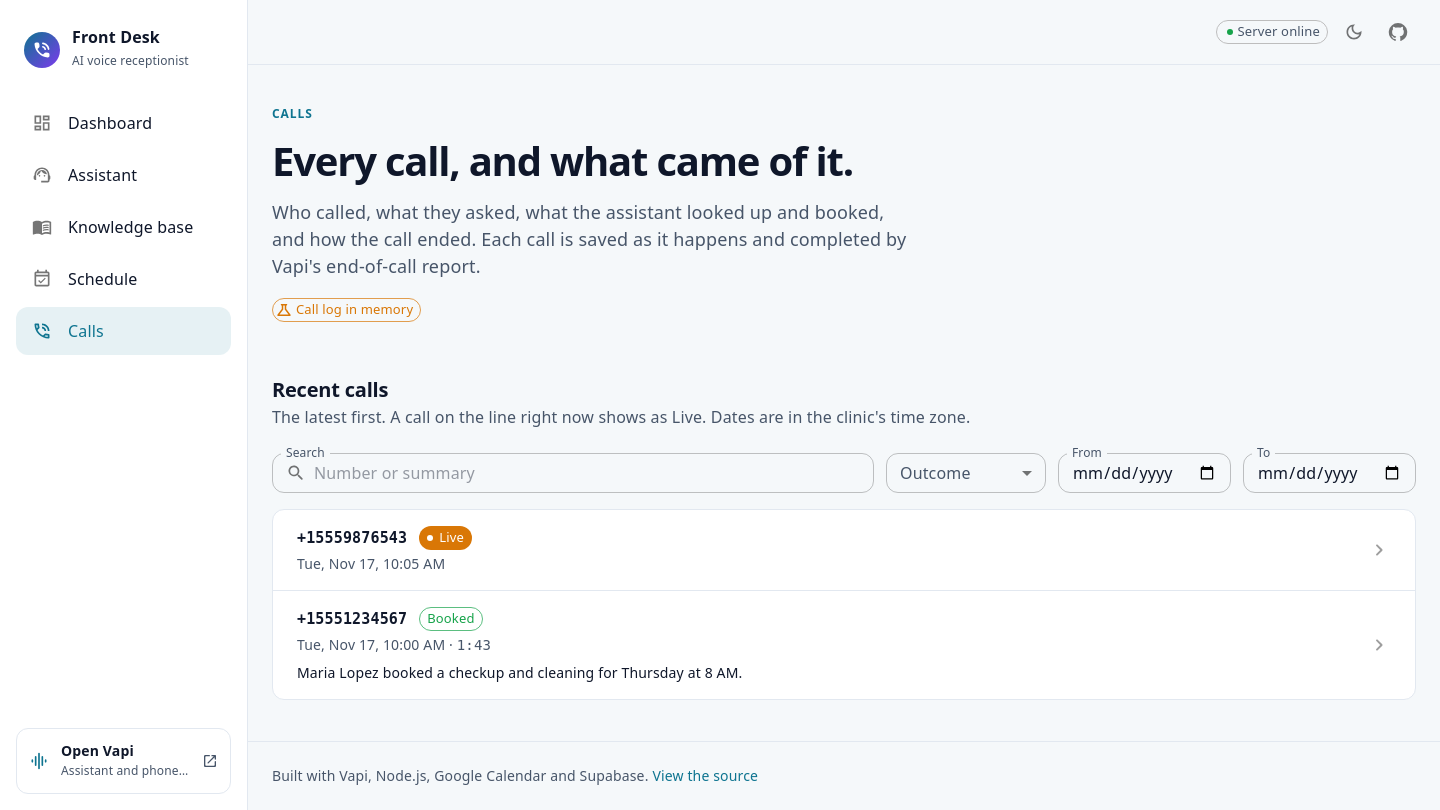
it: Call filters › searches as you type, and clears
Type "maria" into the field labelled "Search" at (594, 473), box [314, 453, 874, 493]
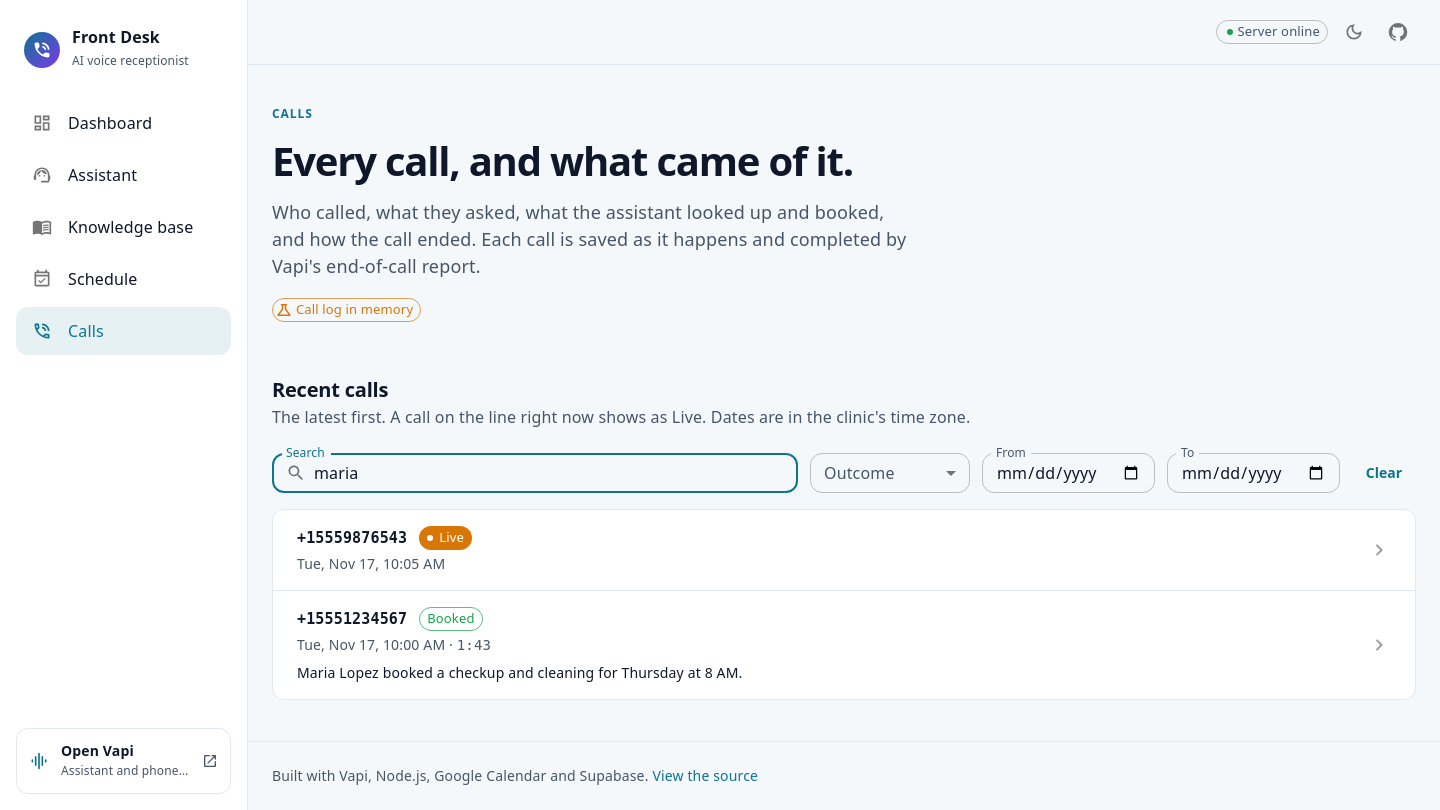
Click the button "Clear" at (1384, 473), box [1352, 455, 1416, 491]
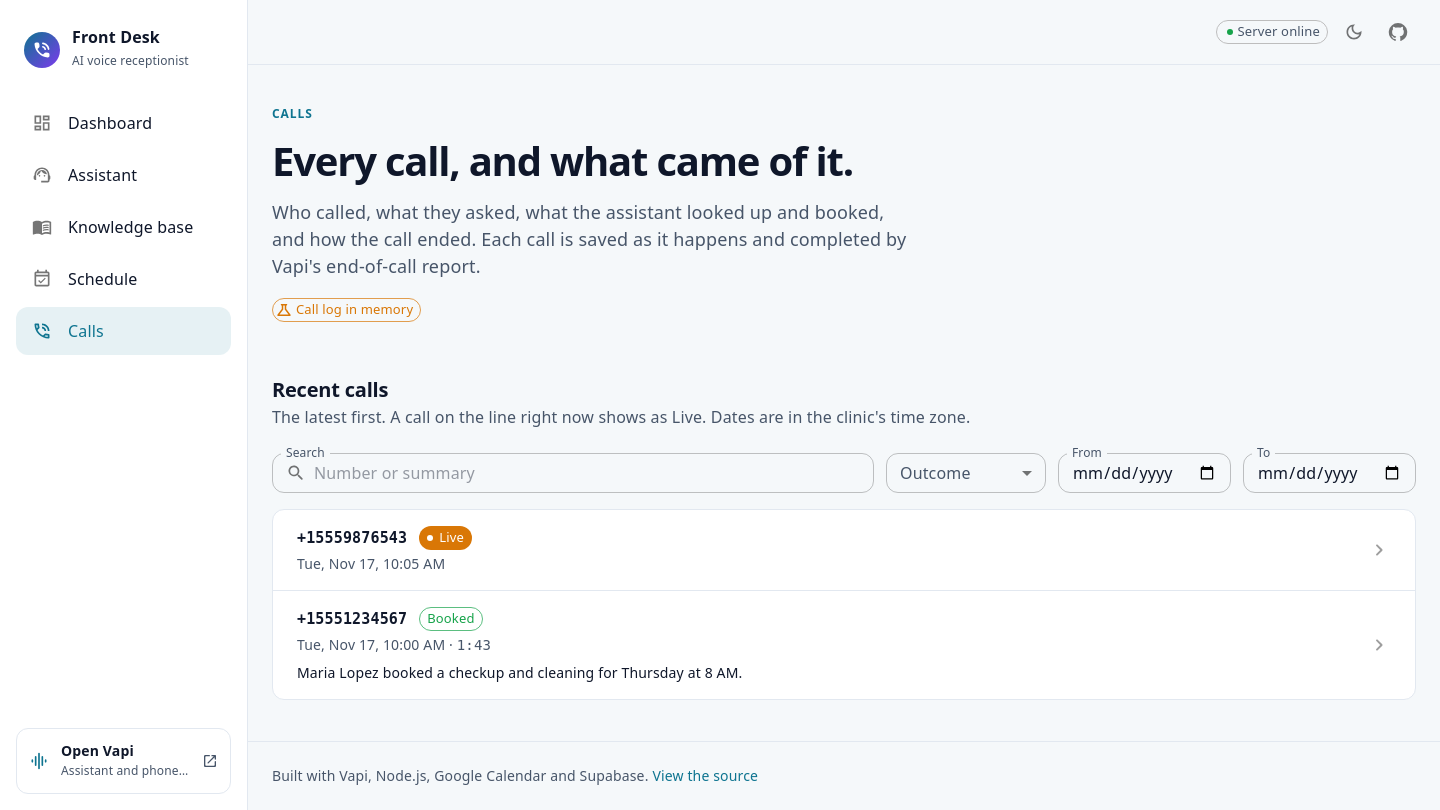
Expected: the field labelled "Search" is empty, [314, 453, 874, 493]
